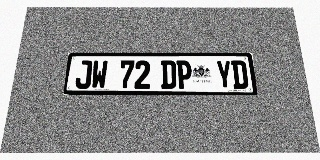2: (134, 60, 150, 89)
7: (118, 60, 135, 89)
D: (231, 60, 249, 89), (161, 60, 176, 89)
J: (75, 60, 93, 89)
P: (176, 60, 192, 89)
W: (91, 60, 108, 89)
Y: (215, 60, 233, 89)
